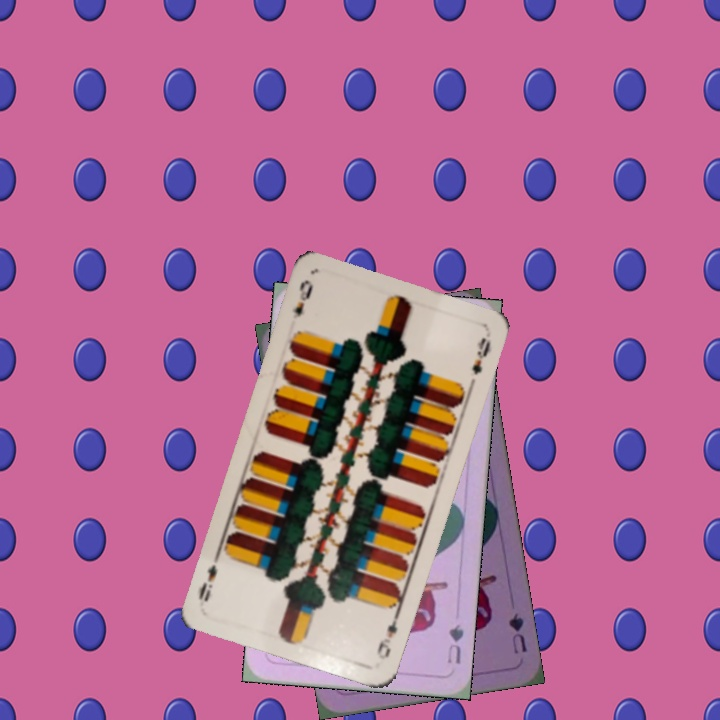E9: (372, 607, 402, 662), (287, 275, 316, 322)
GU: (504, 609, 529, 657), (443, 620, 467, 667)
